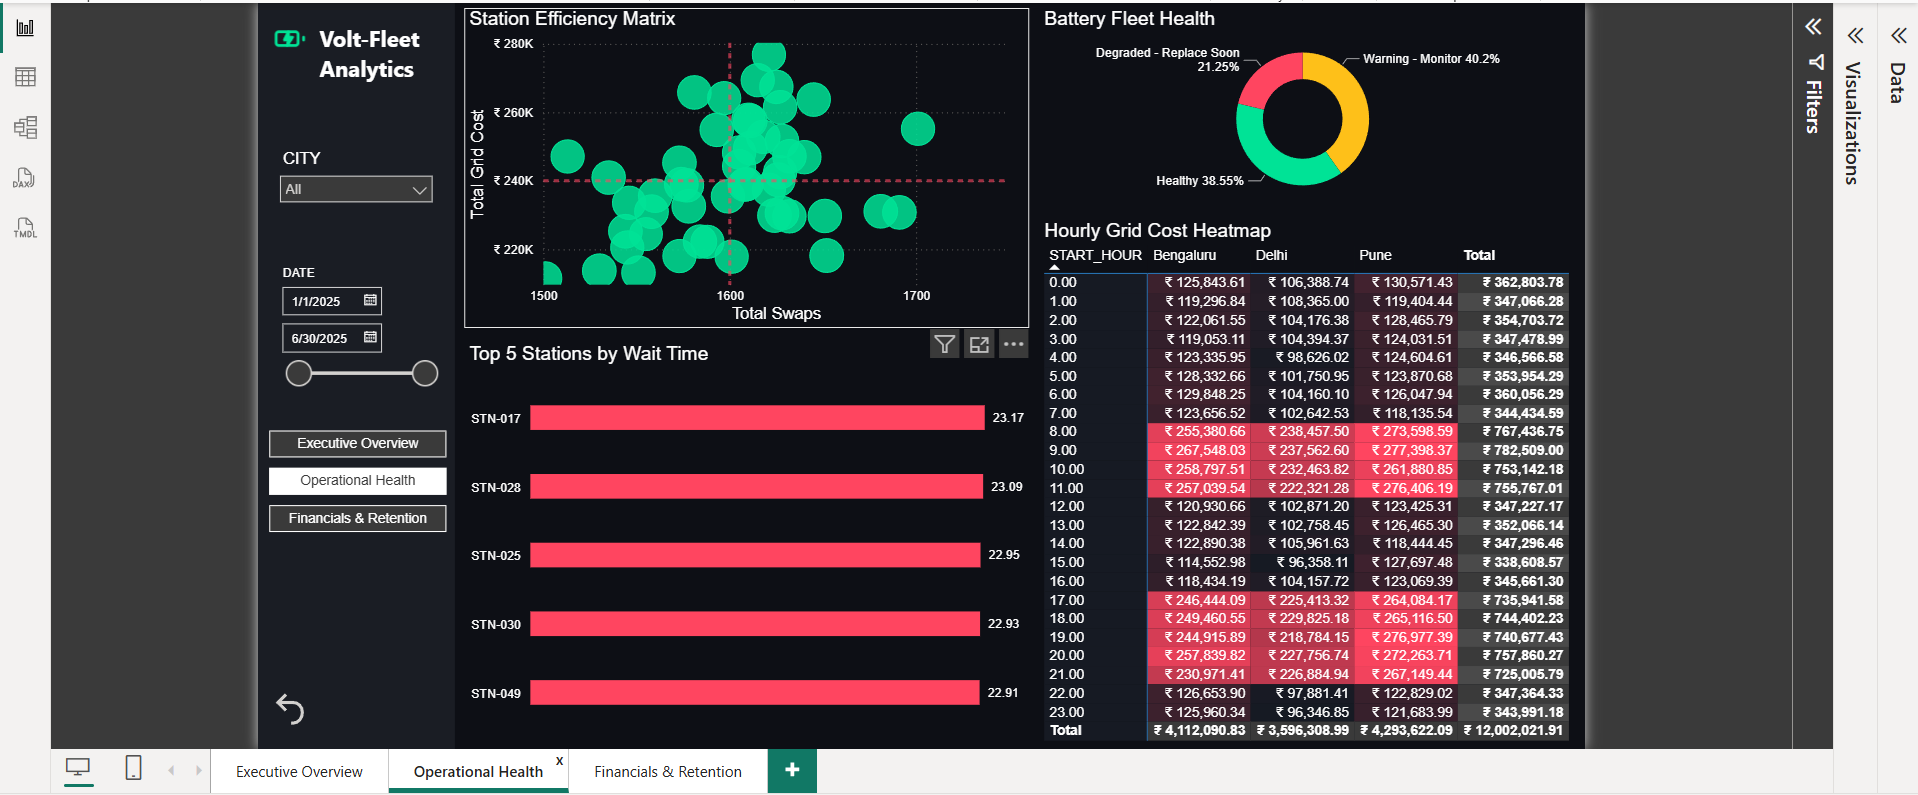

The dashboard page shown, as its layout file describes it:
{"tool":"powerbi","page":{"name":"Operational Health","canvas":[1280,720],"ordinal":1},"visuals":[{"type":"scatterChart","title":"Station Efficiency Matrix","fields":{"Category":["DIM_STATIONS.STATIONID"],"X":["VW_CLEAN_SWAPS.Total Swaps"],"Y":["VW_CLEAN_CHARGING.Total Grid Cost"],"Size":["VW_CLEAN_SWAPS.Average Wait Time"]},"box":[199.1,4.8,545.3,308.8],"z":0},{"type":"pivotTable","title":"Hourly Grid Cost Heatmap","fields":{"Rows":["VW_CLEAN_CHARGING.START_HOUR"],"Columns":["DIM_STATIONS.CITY"],"Values":["VW_CLEAN_CHARGING.Total Grid Cost"]},"box":[754.2,208.5,516.3,511.4],"z":1000},{"type":"donutChart","title":"Battery Fleet Health","fields":{"Category":["VW_CLEAN_BATTERIES.BATTERY_HEALTH_STATUS"],"Y":["CountNonNull(VW_CLEAN_BATTERIES.BATTERYID)"]},"box":[754.2,4.9,508.9,193.8],"z":2000},{"type":"clusteredBarChart","title":"Top 5 Stations by Wait Time","fields":{"Category":["DIM_STATIONS.STATIONID"],"Y":["VW_CLEAN_SWAPS.Average Wait Time"]},"box":[199.1,328.2,546.5,383.6],"z":3000},{"type":"shape","box":[0,0,190,720.2],"z":4000},{"type":"slicer","fields":{"Values":["DIM_STATIONS.CITY"]},"box":[10.6,136.8,167.7,80.8],"z":5000},{"type":"pageNavigator","box":[10.6,413.1,171,100],"z":6000},{"type":"slicer","fields":{"Values":["VW_CLEAN_SWAPS.DATE"]},"box":[10.6,248.4,171.3,133.9],"z":7000},{"type":"textbox","box":[54.3,14.5,124.3,96.5],"z":8000},{"type":"actionButton","box":[10.9,14.5,43.4,39.8],"z":9000},{"type":"actionButton","box":[11.1,660.9,100.2,40.3],"z":9001}]}

Visuals, with their boxes on the page's 1280x720 design canvas (x1, y1, x2, y2). These are canvas units, not pixel positions in the 1918x795 screenshot, which may show the page scaled, cropped or inside an application window:
"Station Efficiency Matrix" scatterChart: [x1=199, y1=5, x2=744, y2=314]
"Hourly Grid Cost Heatmap" pivotTable: [x1=754, y1=208, x2=1270, y2=720]
"Battery Fleet Health" donutChart: [x1=754, y1=5, x2=1263, y2=199]
"Top 5 Stations by Wait Time" clusteredBarChart: [x1=199, y1=328, x2=746, y2=712]
shape: [x1=0, y1=0, x2=190, y2=720]
slicer - DIM_STATIONS.CITY: [x1=11, y1=137, x2=178, y2=218]
pageNavigator: [x1=11, y1=413, x2=182, y2=513]
slicer - VW_CLEAN_SWAPS.DATE: [x1=11, y1=248, x2=182, y2=382]
textbox: [x1=54, y1=14, x2=179, y2=111]
actionButton: [x1=11, y1=14, x2=54, y2=54]
actionButton: [x1=11, y1=661, x2=111, y2=701]
